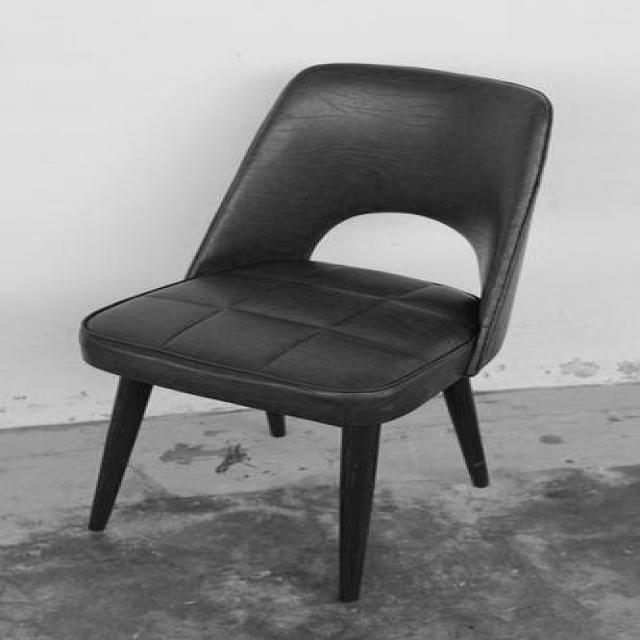chair: (78, 59, 554, 606)
